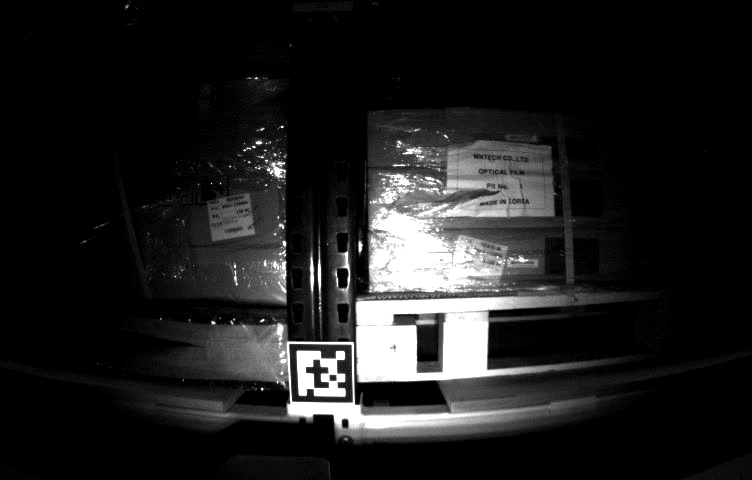True Barcode: (452, 233, 503, 292), (206, 191, 257, 238)
